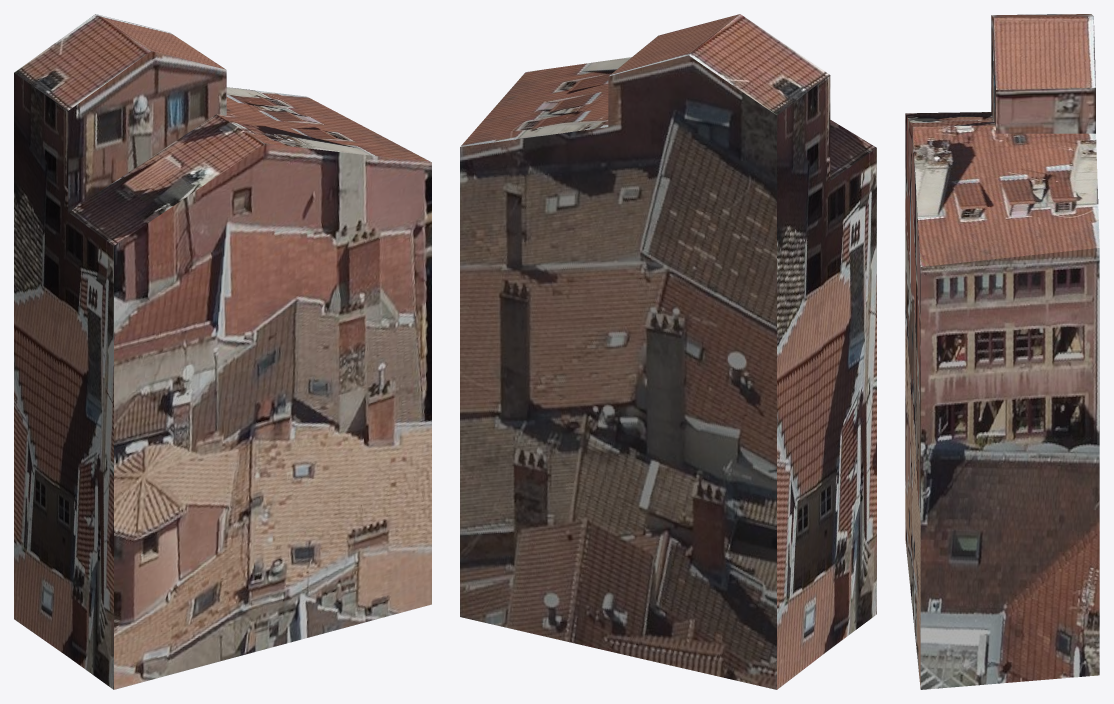
The picture shows the model from 3 angles, left to right: view 1: azimuth 30°, elevation 25°; view 2: azimuth 150°, elevation 25°; view 3: azimuth 270°, elevation 25°; orthographic projection. The views are drawn at different scales.
Parts seen in each view (by area): view 1: Z_UP; view 2: Z_UP; view 3: Z_UP.
Boxes of the visible parts, x1,y1,x2,y2 form: Z_UP: [14, 14, 431, 689]; Z_UP: [460, 14, 876, 689]; Z_UP: [905, 14, 1099, 689].
Bounding box in the file's own units: 15.82 × 26.89 × 8.48.
2 materials, 1 textured.
